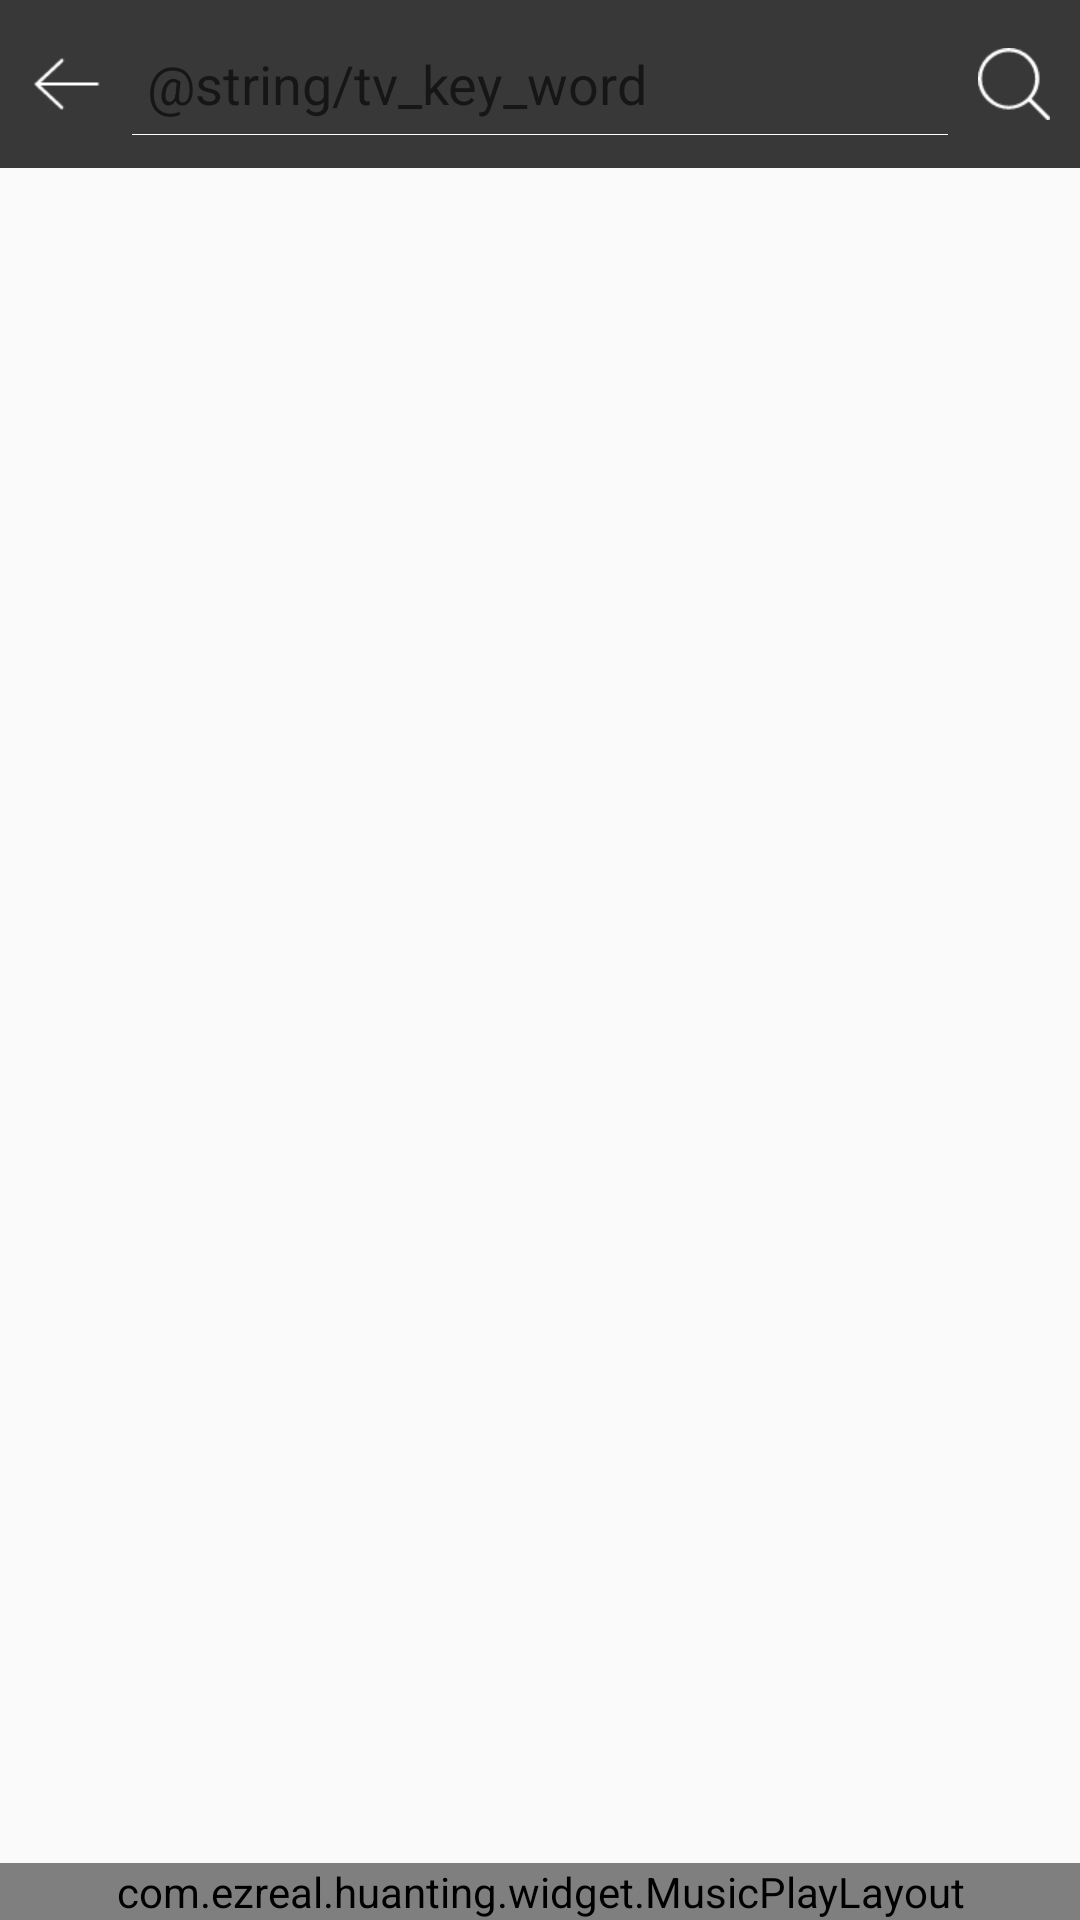

Screen size 1080px x 1920px. Icon name, then its box in pixels as (x1, y1, x2, y2):
search: (978, 48, 1050, 120)
title back: (34, 58, 99, 110)
